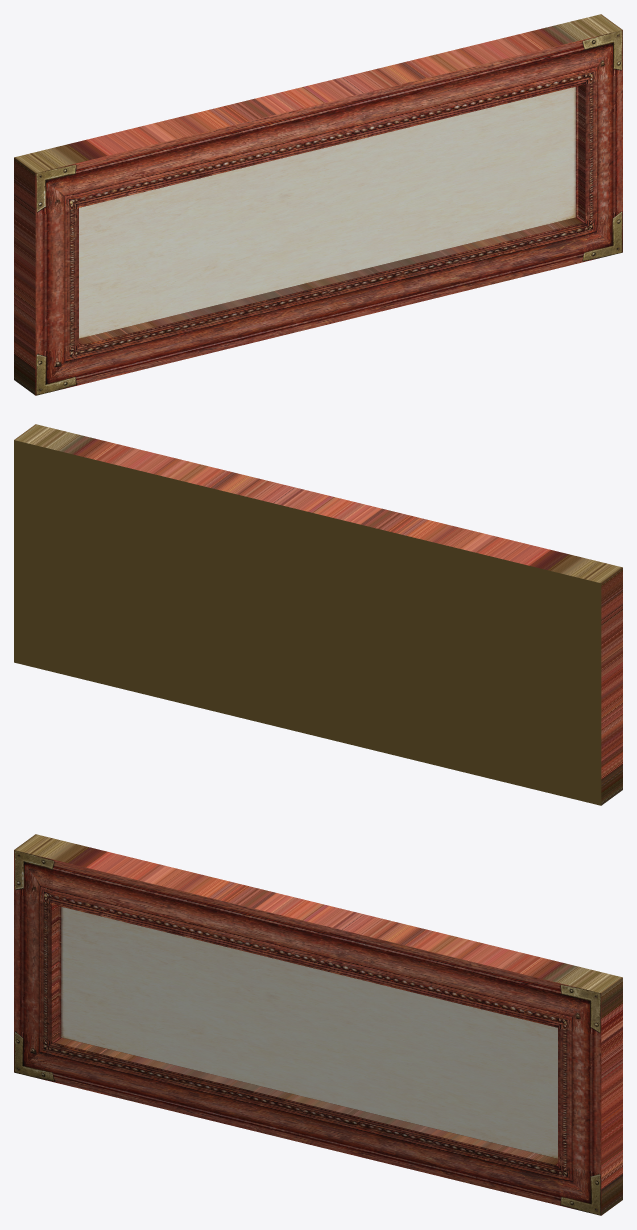
File: panel_note.glb
3 views of the same model, one above another, from view 1: azimuth 30°, elevation 25°; view 2: azimuth 150°, elevation 25°; view 3: azimuth 330°, elevation 25° (orthographic).
Parts seen in each view (by area): view 1: panel_note; view 2: panel_note; view 3: panel_note.
Part boxes in pixels (x1=…): panel_note: x1=14, y1=14, x2=622, y2=395; panel_note: x1=14, y1=424, x2=622, y2=805; panel_note: x1=14, y1=834, x2=622, y2=1215.
Bounding box in the file's own units: 0.58 × 0.21 × 0.042.
Materials: 1 (1 with a texture image).
